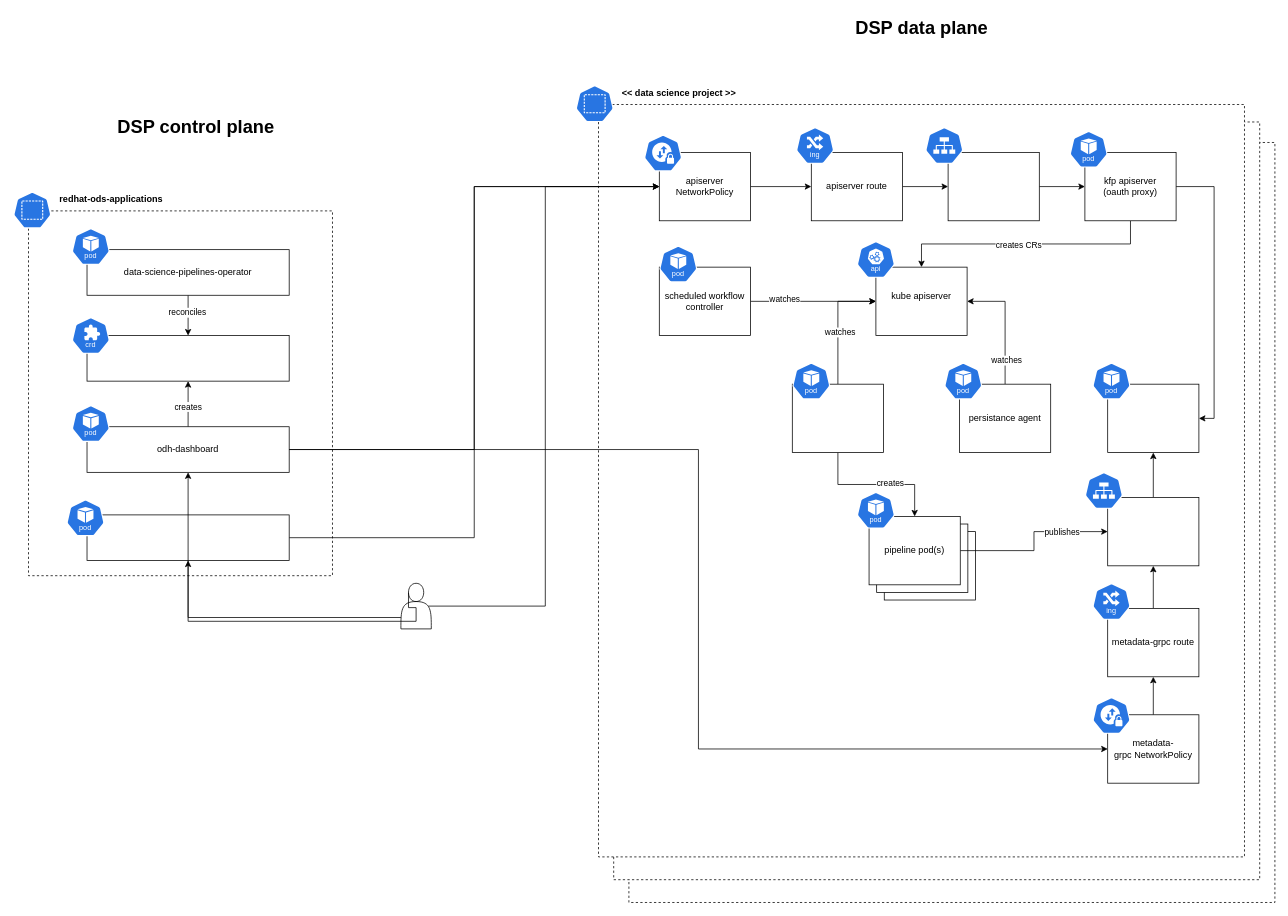
Image size: 1288x916. Some labels were removed from this diagram. Each missing label, with the box of its shape:
apiserver service: (947, 152, 1039, 221)
argo workflow controller: (792, 383, 884, 453)
DataSciencePipelinesApplication: (86, 335, 289, 381)
metadata-grpc: (1107, 383, 1199, 453)
metadata-grpc service: (1107, 497, 1199, 566)
notebook: (86, 514, 289, 560)
